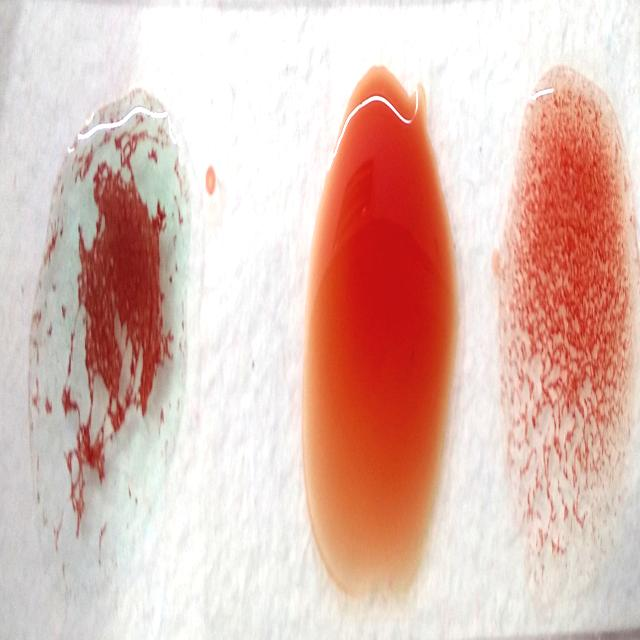A: (36, 99, 191, 596)
D: (500, 66, 636, 596)
